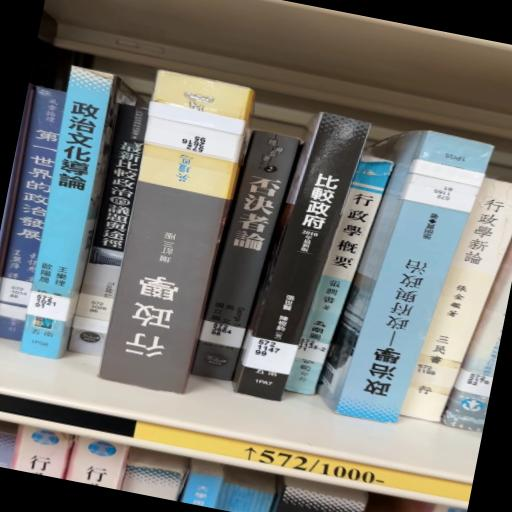reverse: (318, 132, 494, 424), (99, 71, 255, 395)
